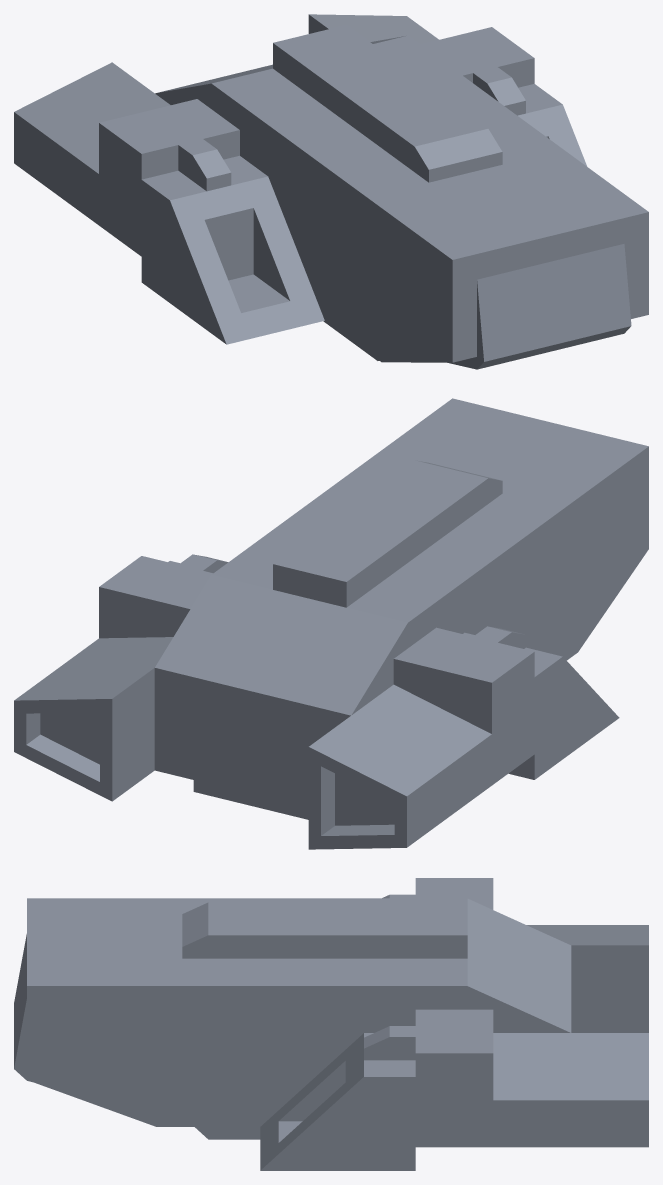
Rendered from chinook.glb.
The picture shows the model from 3 angles, top to bottom: view 1: azimuth 30°, elevation 25°; view 2: azimuth 150°, elevation 25°; view 3: azimuth 270°, elevation 25°; orthographic projection. The views are drawn at different scales.
Size of the model in its own units: 16 by 8 by 24.5.
